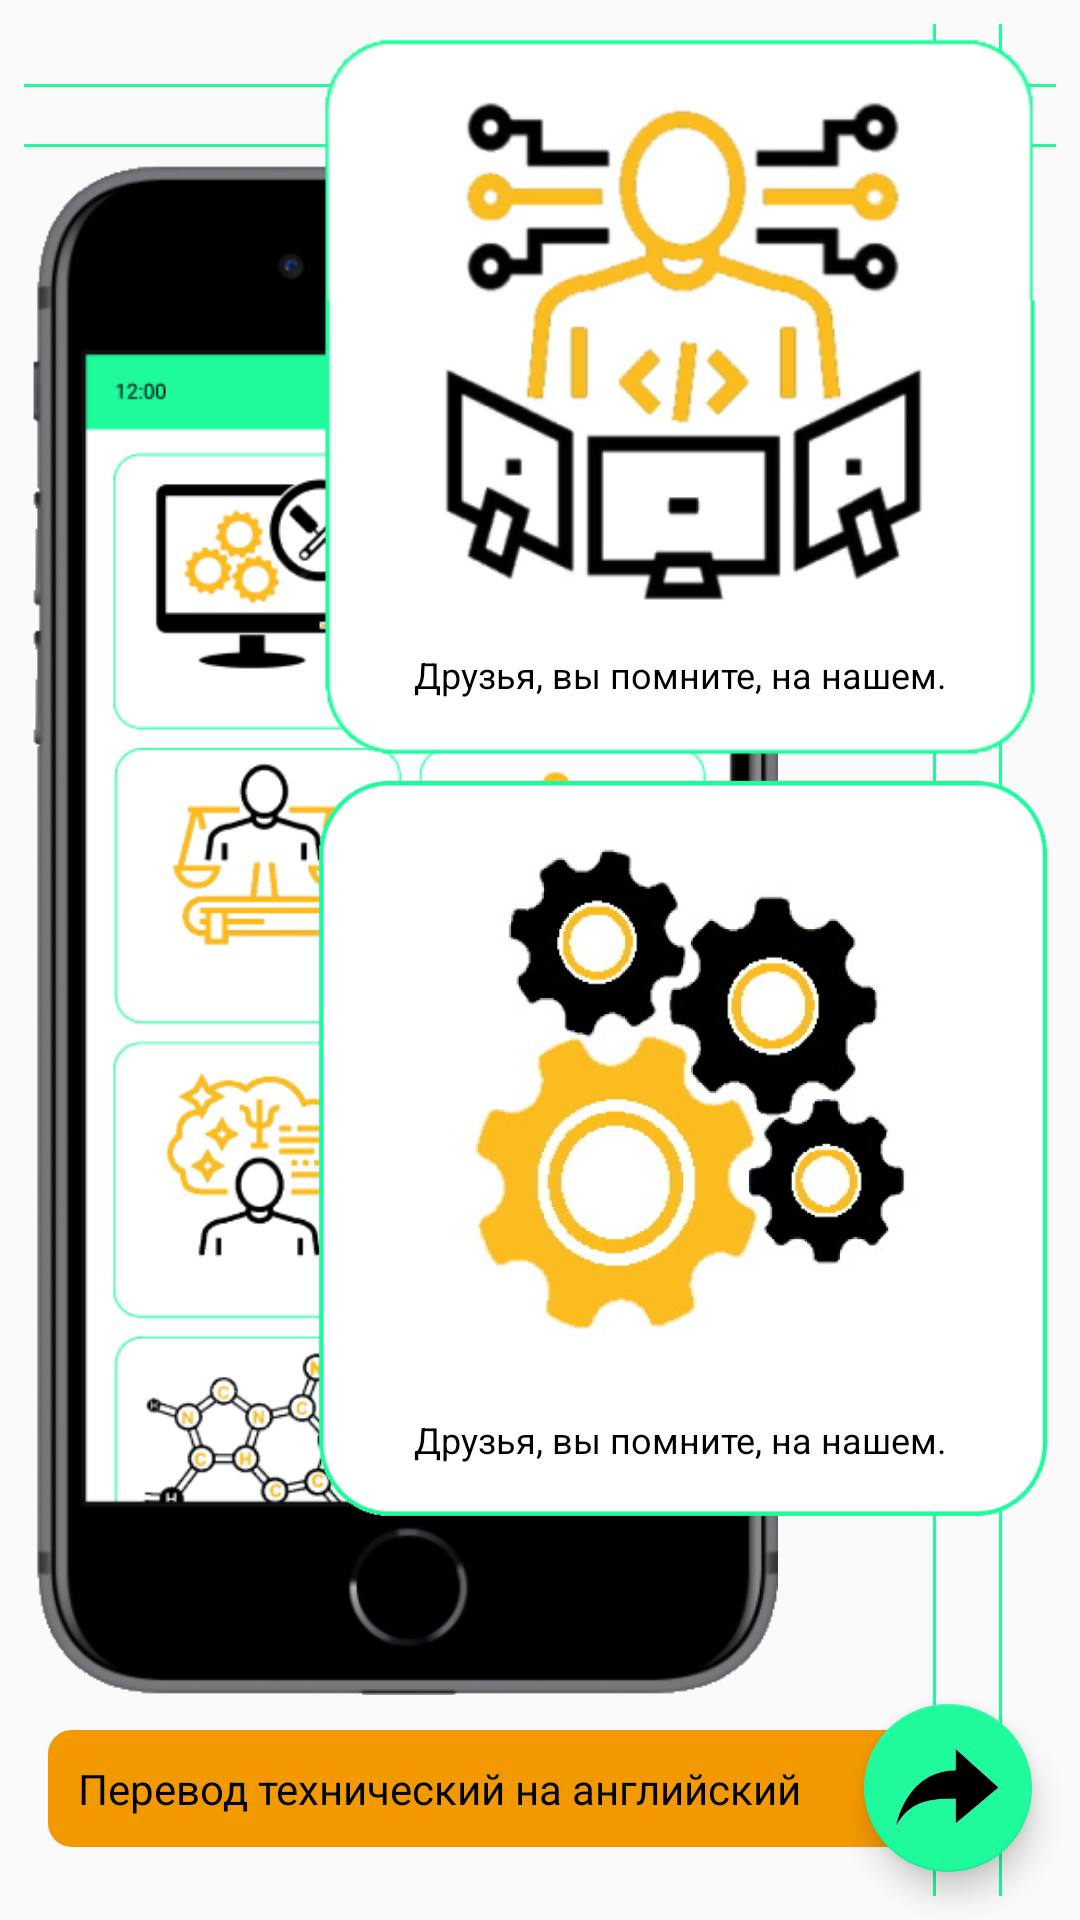

Icon click points for this 1080w x 1920h phone screenshot, format [x,y]:
further: [948,1788]
